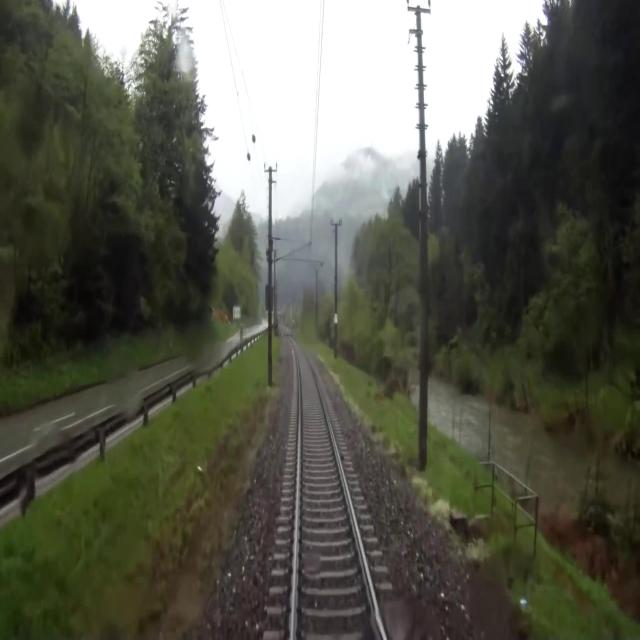rail-track: (292, 341, 382, 639)
